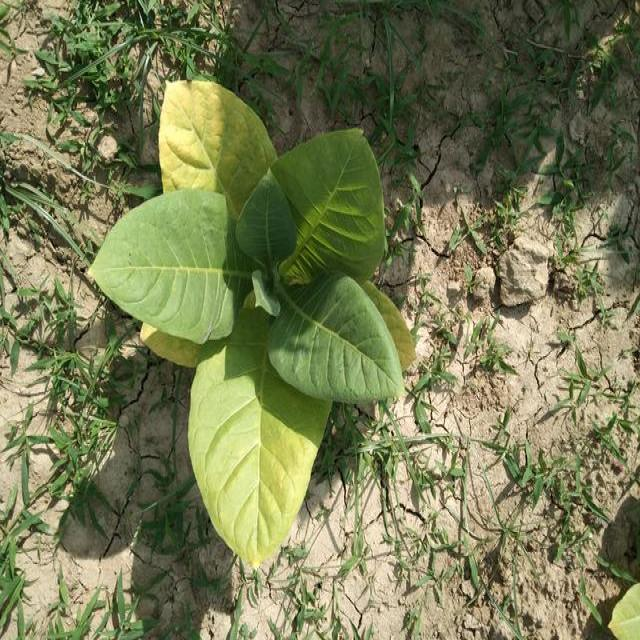crop: (92, 71, 422, 570)
